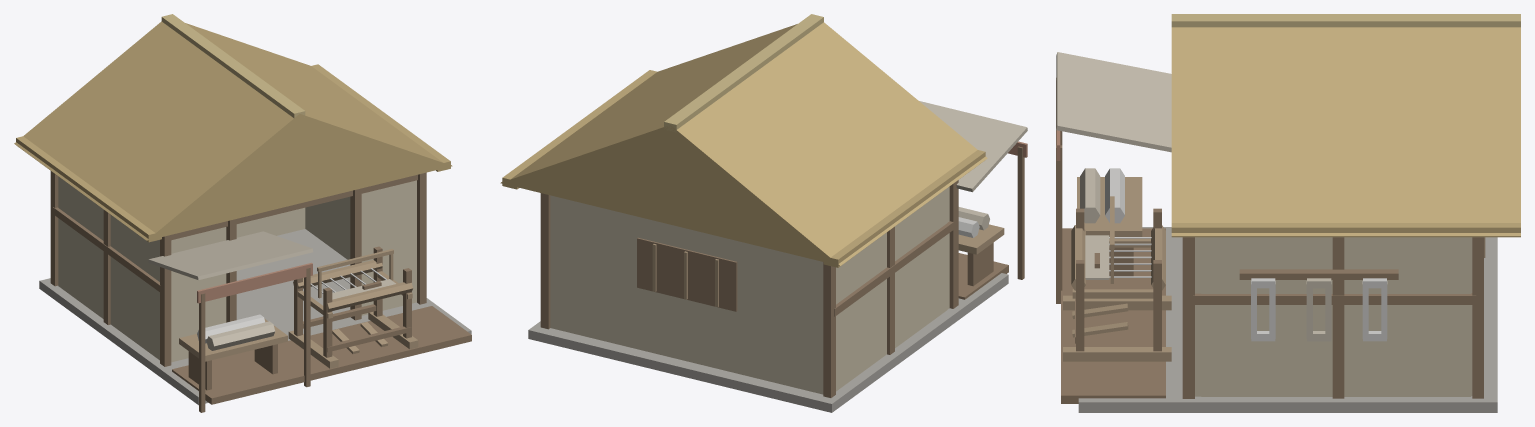
The model's file is tailor.glb.
3 views of the same model, side by side, from view 1: azimuth 30°, elevation 25°; view 2: azimuth 150°, elevation 25°; view 3: azimuth 270°, elevation 25° (orthographic). The views are drawn at different scales.
Visible parts, largest first — view 1: tailor; view 2: tailor; view 3: tailor.
Part boxes in pixels (bbox=[...]): tailor: bbox=[14, 14, 471, 412]; tailor: bbox=[500, 14, 1027, 412]; tailor: bbox=[1056, 14, 1520, 412].
Bounding box in the file's own units: 2 × 1.46 × 2.
